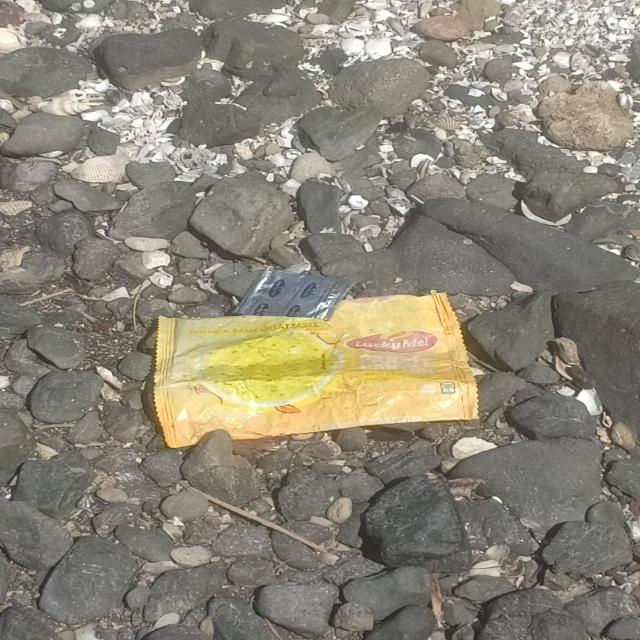plastic_waste: (153, 292, 482, 450), (228, 267, 360, 323)
